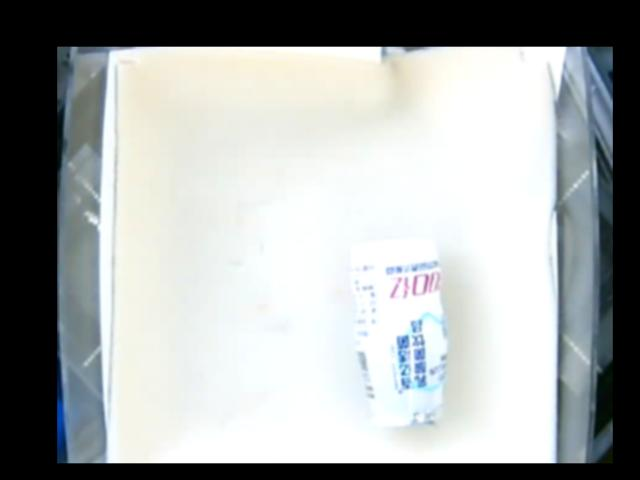Bottle: (348, 237, 444, 426)
